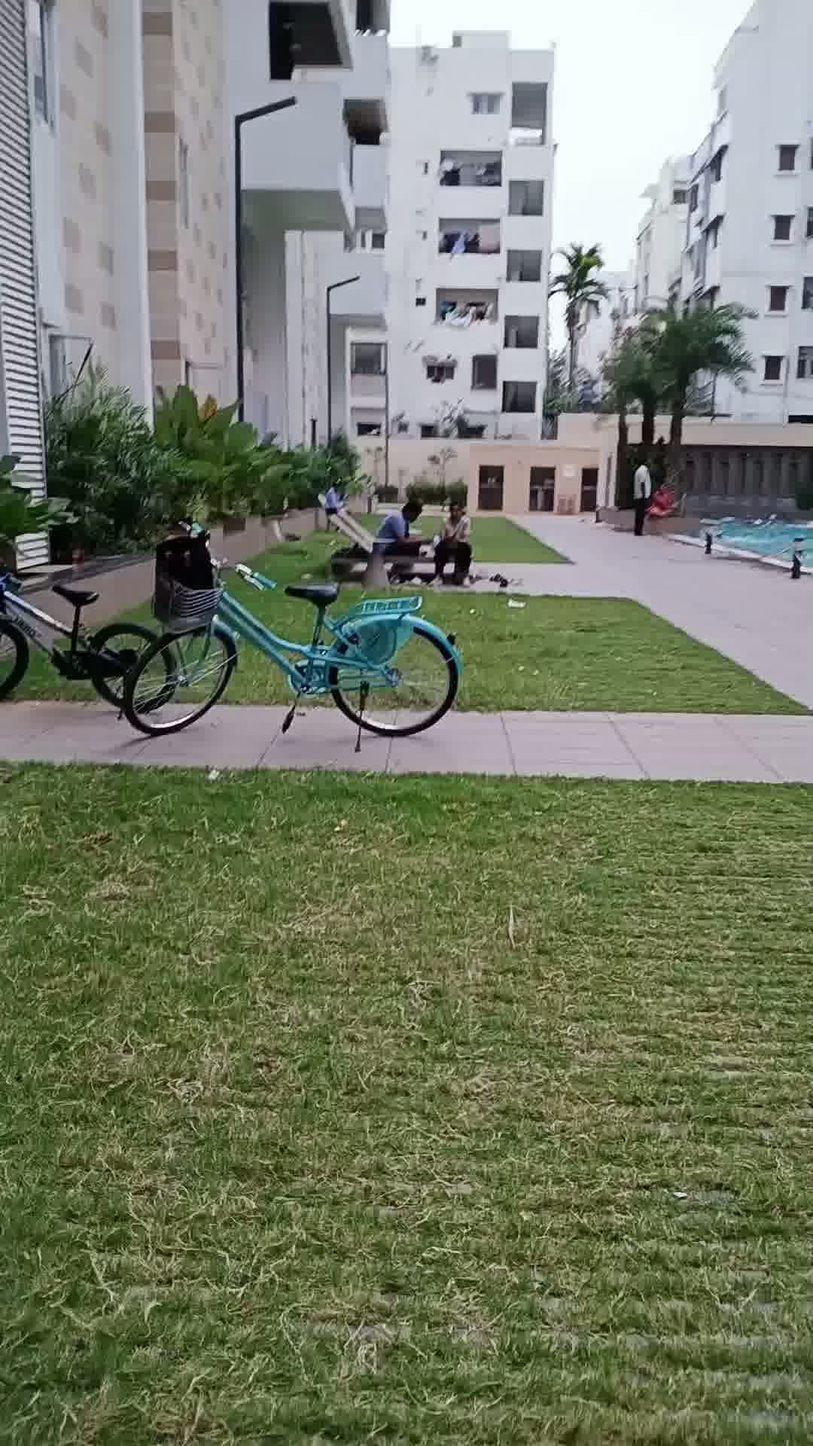bicycle: (134, 515, 452, 774), (0, 527, 185, 788)
person: (435, 478, 487, 589), (376, 481, 430, 578), (629, 444, 657, 532)
tree: (643, 287, 728, 524), (546, 225, 612, 453)
